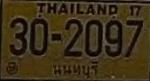0: (30, 18, 48, 55), (84, 19, 102, 56)
2: (64, 18, 82, 56)
3: (9, 17, 27, 55)
7: (125, 20, 142, 56)
9: (105, 19, 122, 56)
NBI: (50, 59, 101, 78)
